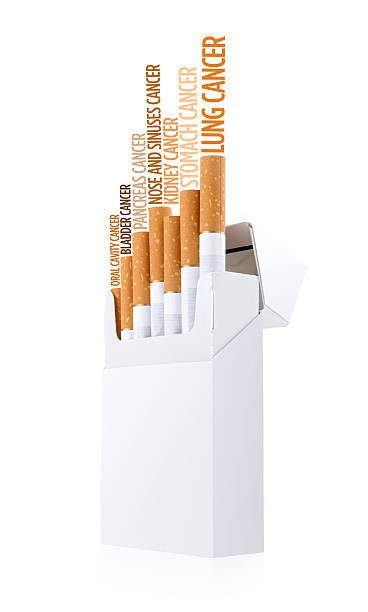cigarette: (105, 220, 307, 552), (199, 154, 228, 276), (148, 206, 172, 338), (179, 189, 200, 333), (162, 214, 180, 335), (131, 231, 148, 338), (119, 255, 132, 340), (110, 287, 119, 342)
